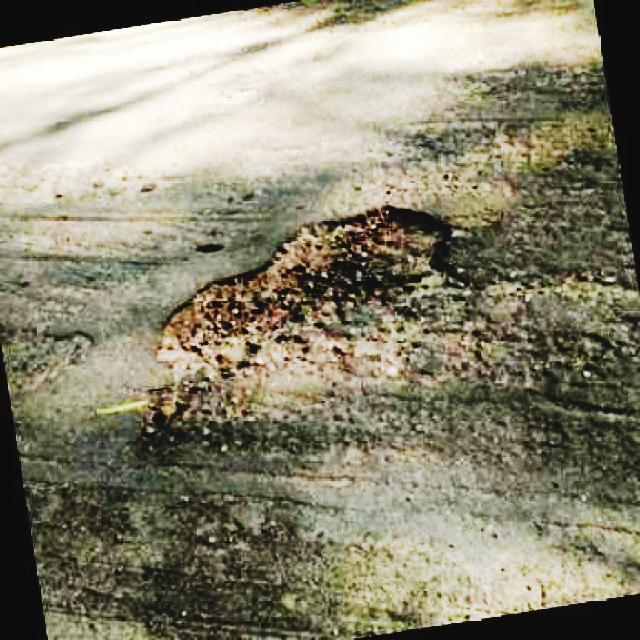pothole: (148, 197, 455, 440)
